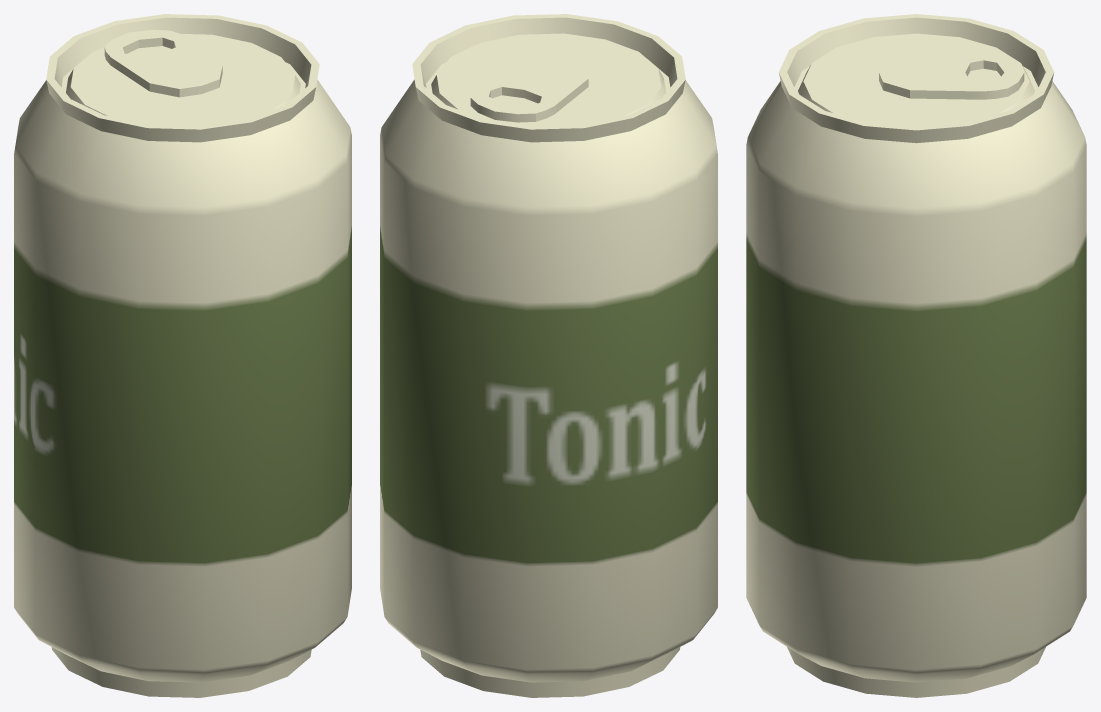
Rendered from can-tonic.fbx.
3 renders of one model, left to right at view 1: azimuth 30°, elevation 25°; view 2: azimuth 150°, elevation 25°; view 3: azimuth 270°, elevation 25°, orthographic.
Parts seen in each view (by area): view 1: can_tonic; view 2: can_tonic; view 3: can_tonic.
Part boxes in pixels (x1,y1,x2,y2): can_tonic: (14,14,351,697); can_tonic: (380,14,717,697); can_tonic: (746,14,1086,697).
Size of the model in its own units: 0.066 by 0.122 by 0.066.
